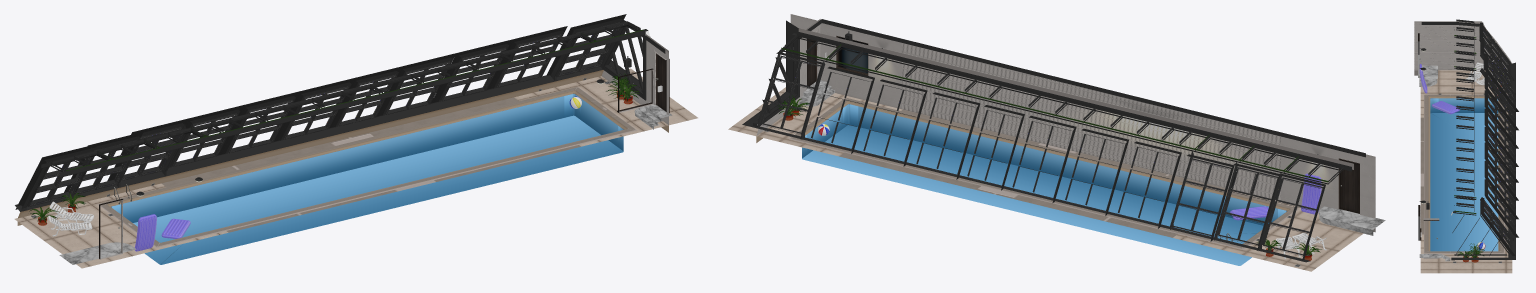
File: pool2.glb
3 renders of one model, left to right at view 1: azimuth 30°, elevation 25°; view 2: azimuth 150°, elevation 25°; view 3: azimuth 270°, elevation 25°, orthographic. The views are drawn at different scales.
Parts seen in each view (by area): view 1: 000412-vb0=9f50b06d-vs=0b76a35c80823274-ps=8936fc882dfd54d6.; view 2: 000412-vb0=9f50b06d-vs=0b76a35c80823274-ps=8936fc882dfd54d6.; view 3: 000412-vb0=9f50b06d-vs=0b76a35c80823274-ps=8936fc882dfd54d6..
Part boxes in pixels (<box>): 000412-vb0=9f50b06d-vs=0b76a35c80823274-ps=8936fc882dfd54d6.: <box>14,14,697,268</box>; 000412-vb0=9f50b06d-vs=0b76a35c80823274-ps=8936fc882dfd54d6.: <box>728,14,1385,271</box>; 000412-vb0=9f50b06d-vs=0b76a35c80823274-ps=8936fc882dfd54d6.: <box>1414,19,1518,273</box>.
Size of the model in its own units: 2892 by 480 by 632.
Materials: 1 (1 with a texture image).
